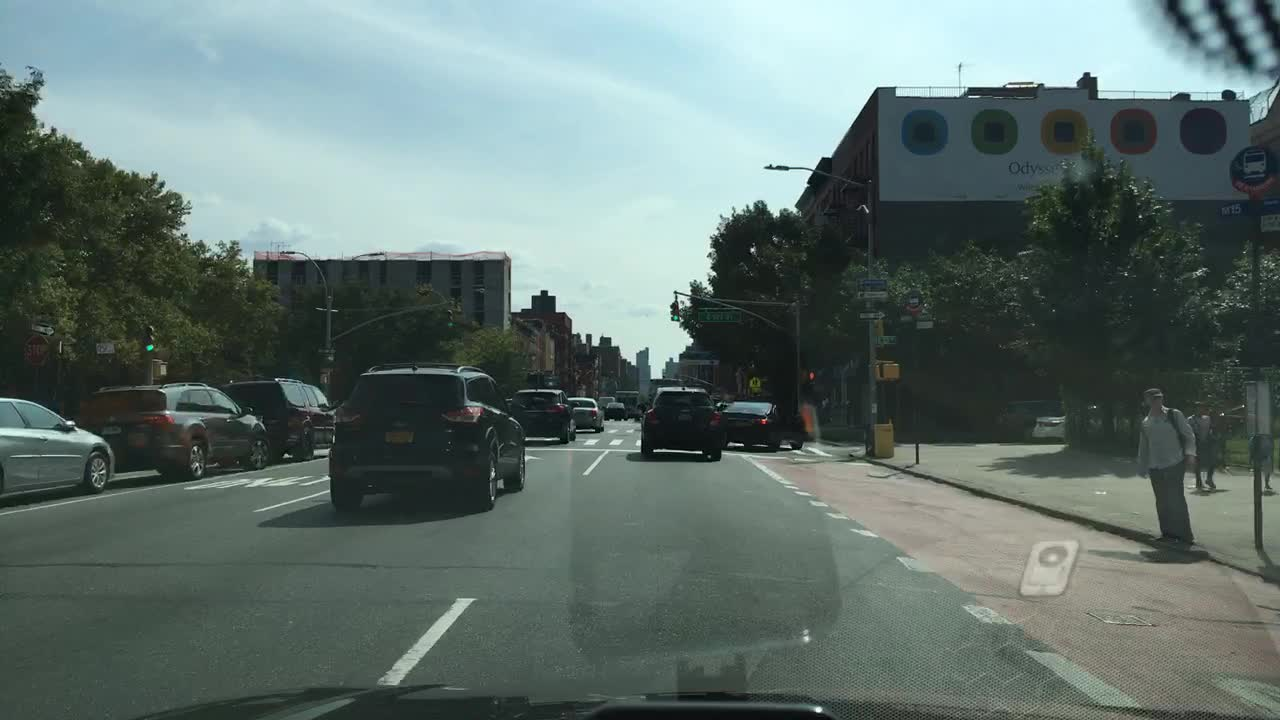car: (326, 362, 525, 510), (74, 381, 269, 481), (0, 395, 117, 502), (218, 374, 337, 460), (640, 383, 723, 463), (719, 399, 806, 453), (504, 387, 578, 443), (997, 397, 1043, 437), (566, 395, 604, 431), (1032, 410, 1068, 443), (604, 401, 626, 421), (595, 394, 613, 408)
person: (1135, 386, 1198, 545), (1186, 400, 1218, 491), (1208, 401, 1230, 470), (1249, 433, 1275, 490)
traffic light: (882, 361, 900, 378), (143, 323, 153, 351), (153, 359, 167, 377), (669, 300, 679, 320), (445, 307, 454, 327), (319, 371, 329, 383), (873, 363, 880, 380), (807, 369, 815, 381)
traffic sign: (1229, 139, 1279, 193), (1243, 377, 1272, 431), (22, 335, 50, 365), (1258, 200, 1279, 239), (697, 306, 744, 322), (678, 351, 721, 366), (904, 287, 922, 314), (857, 306, 887, 320), (1219, 201, 1246, 215), (30, 320, 55, 334), (854, 277, 888, 287), (856, 289, 889, 298), (93, 341, 116, 353), (878, 332, 897, 344), (749, 375, 761, 392), (317, 346, 335, 354), (917, 319, 933, 327), (899, 314, 915, 322), (57, 340, 62, 355), (319, 366, 331, 372)
truck: (612, 389, 640, 422), (647, 376, 680, 400)
